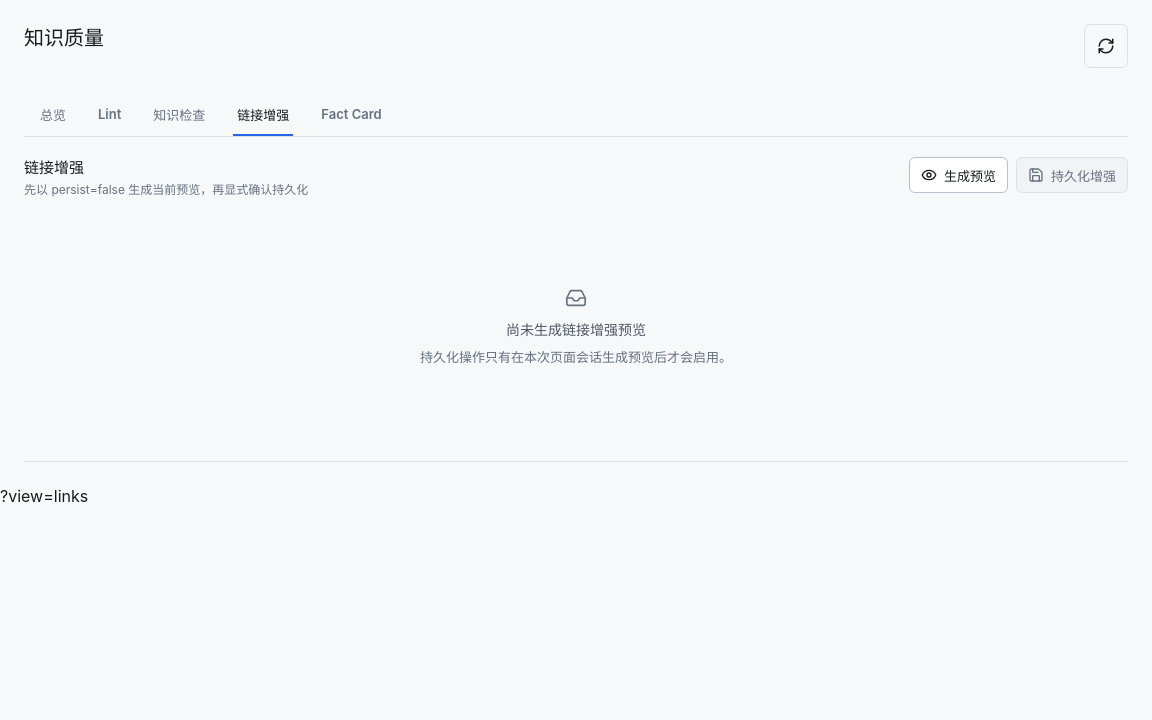
Test: quality page › does not enable link persistence until the current session has a preview
Check: the button "持久化增强" is disabled, box [1016, 157, 1128, 193]
Step 1. Click the button "生成预览" → coordinates (958, 175), box [909, 157, 1008, 193]
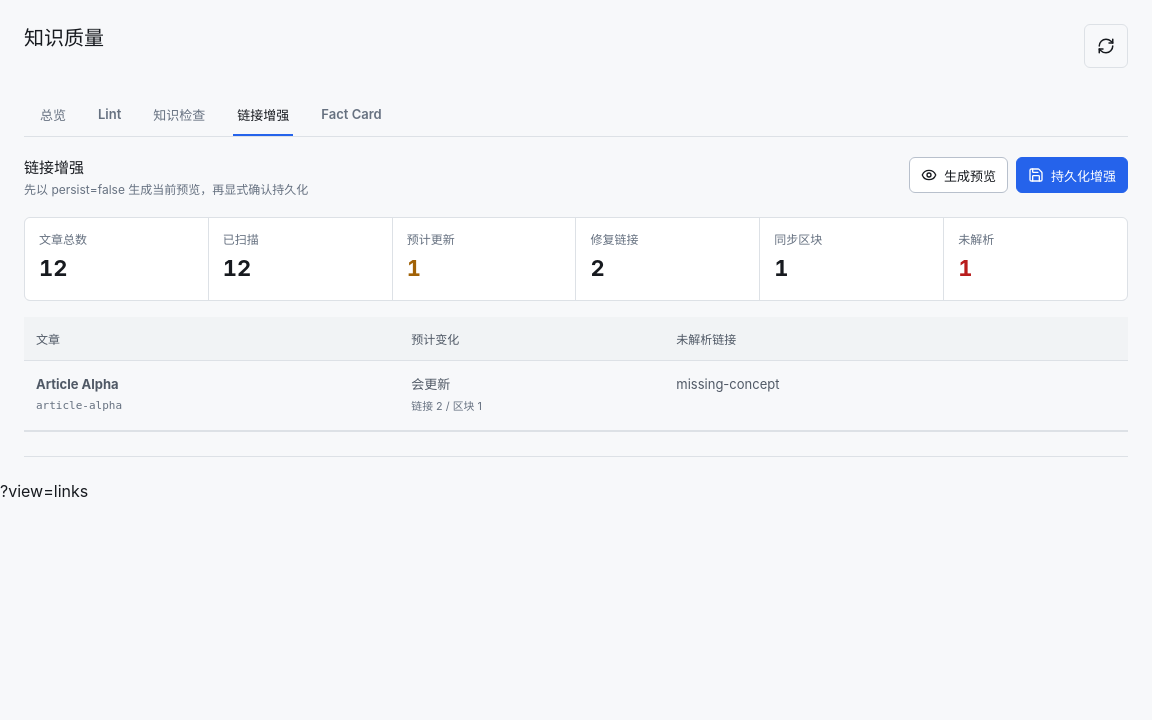
Check: the text "Article Alpha" is shown, box [36, 376, 119, 392]
Step 2. Click the button "持久化增强" → coordinates (1072, 175), box [1016, 157, 1128, 193]
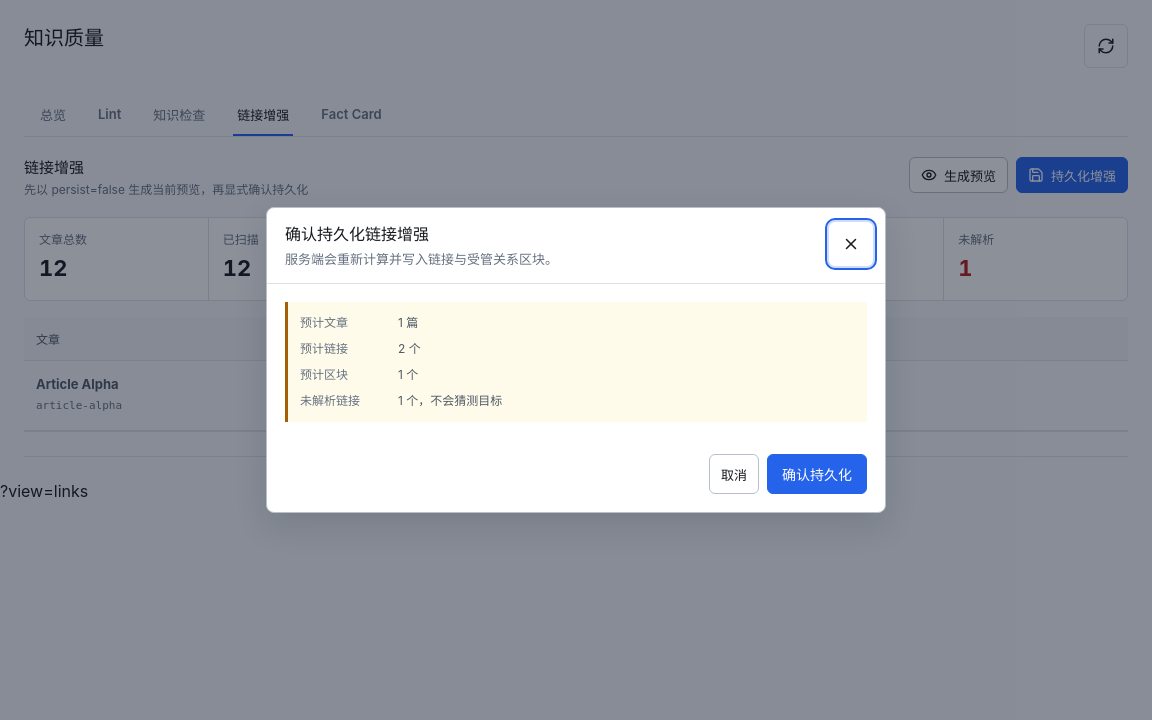
Check: the text "1 篇" is shown, box [398, 315, 418, 330]
Step 3. Click the button "确认持久化" → coordinates (817, 474), box [767, 454, 867, 494]
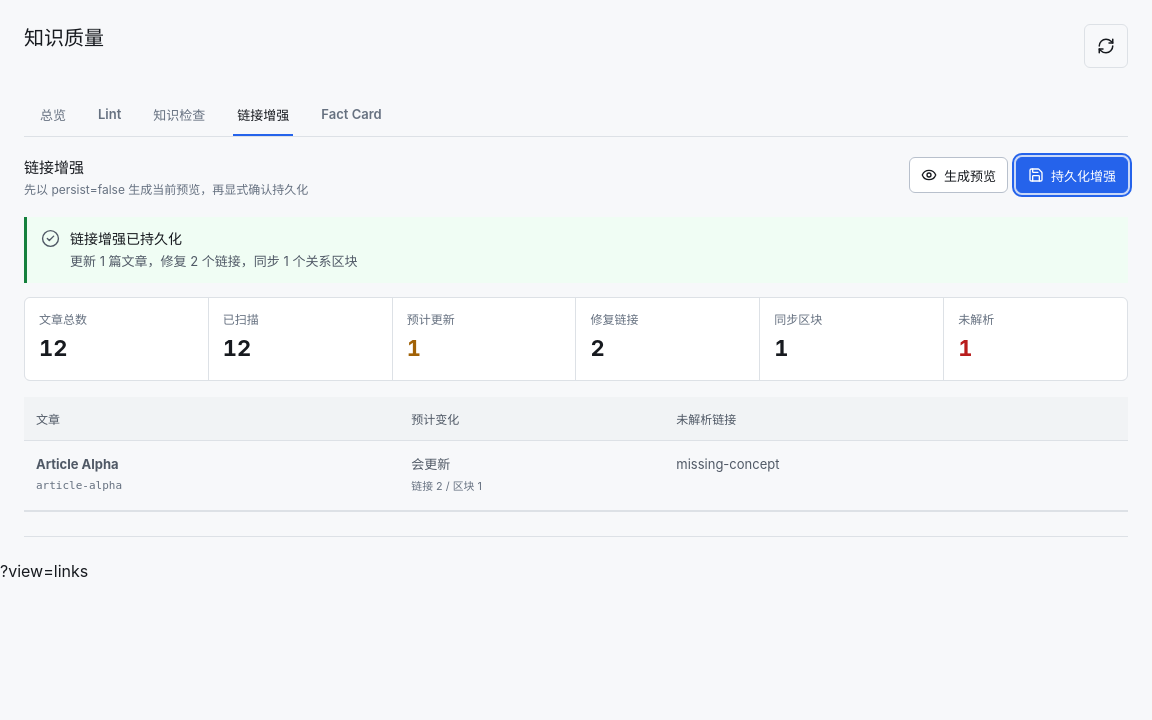
Check: the text "链接增强已持久化" is shown, box [70, 230, 182, 247]
